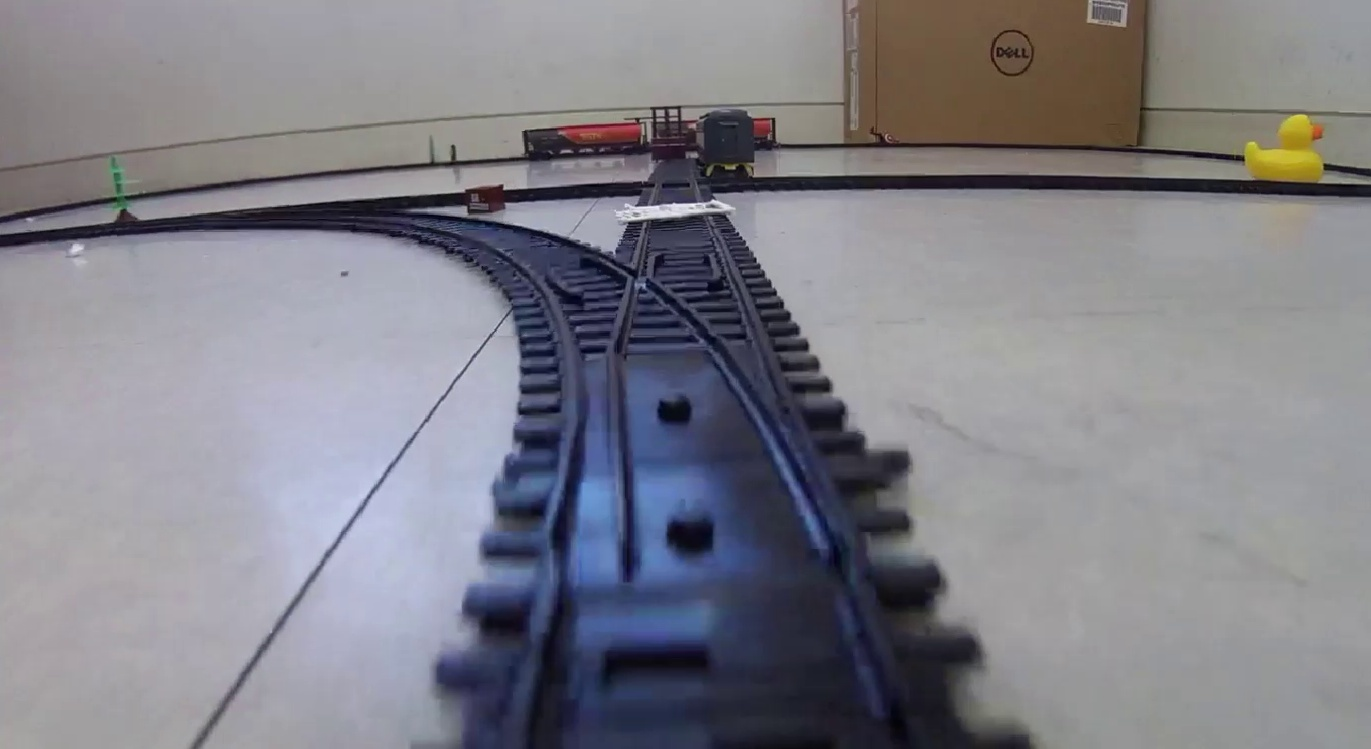box: (463, 183, 509, 215)
web: (615, 203, 737, 221)
